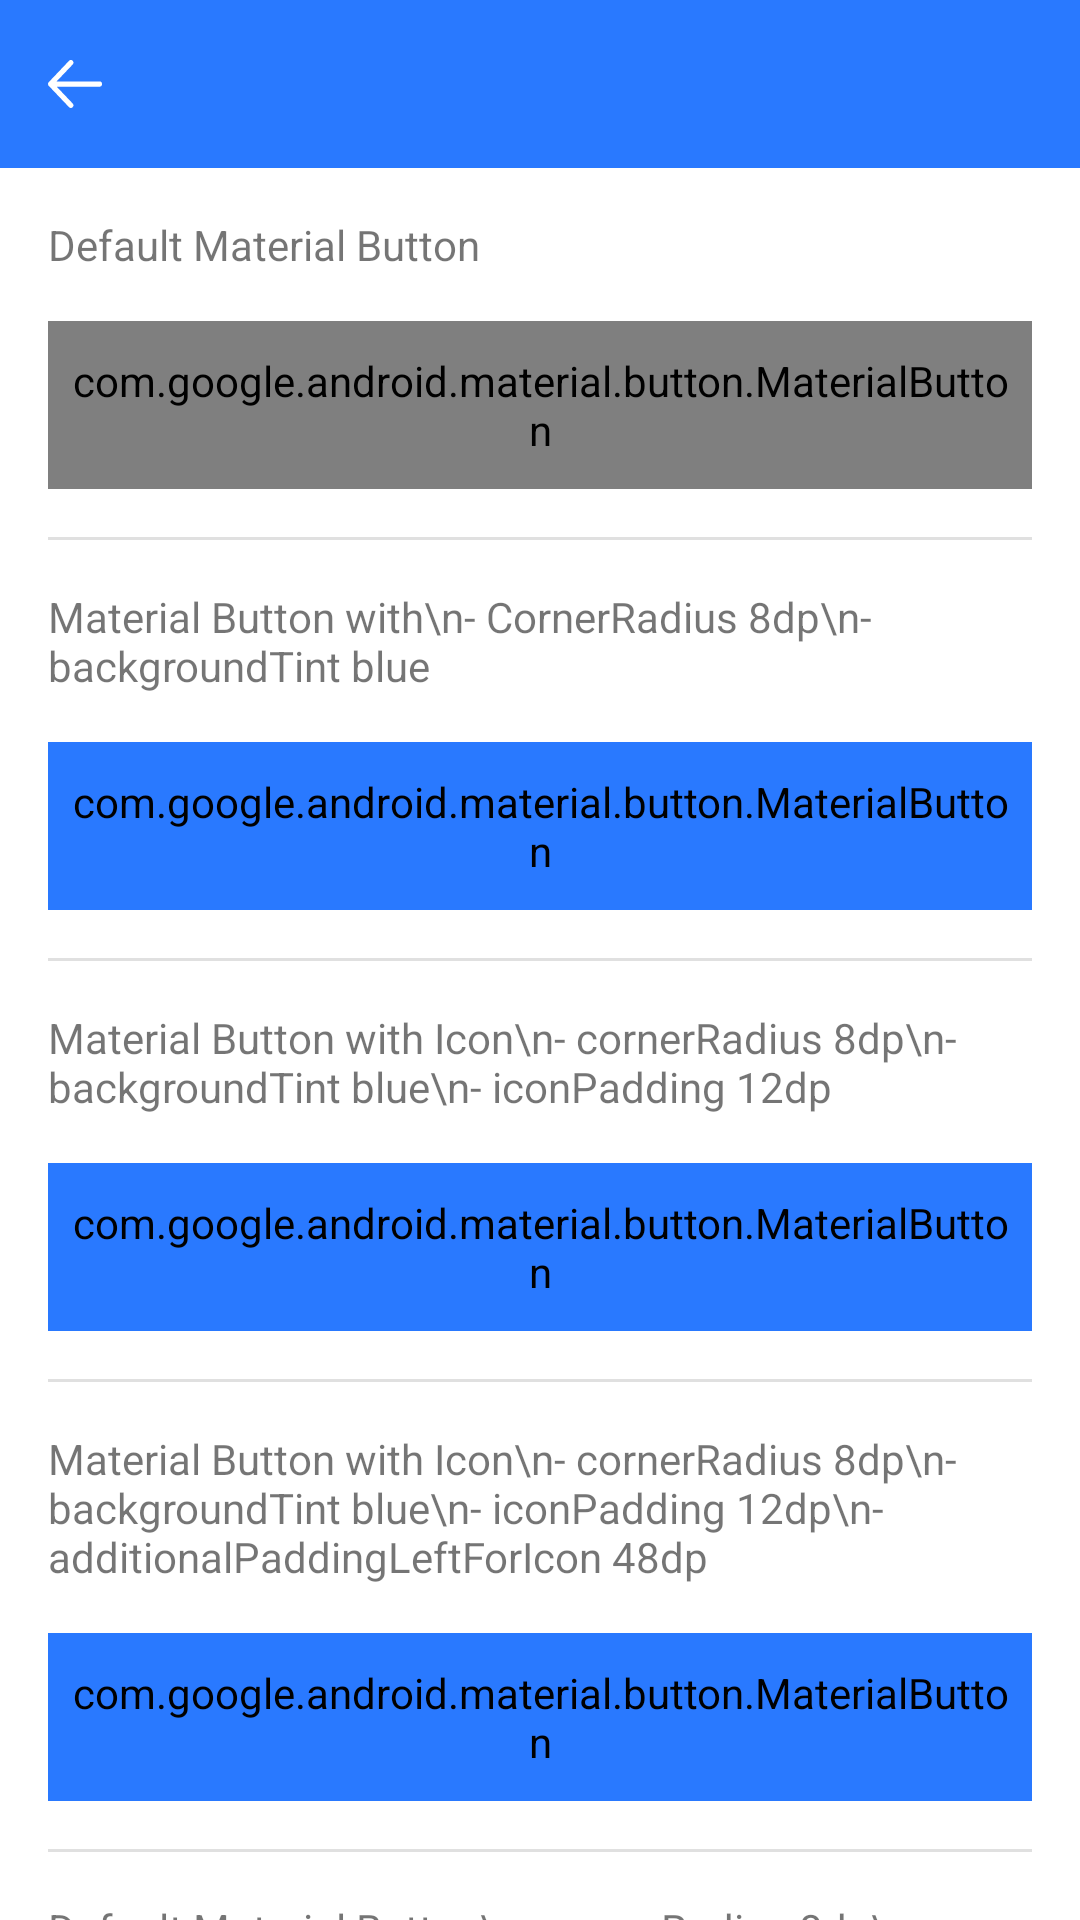

Where icons sit on this 1080px×1920px app screen, as box=[x1, y1, x2, y2]:
back arrow: box=[48, 60, 102, 108]
